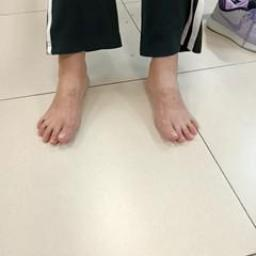Front View -Both Feet-: (18, 45, 222, 161)
